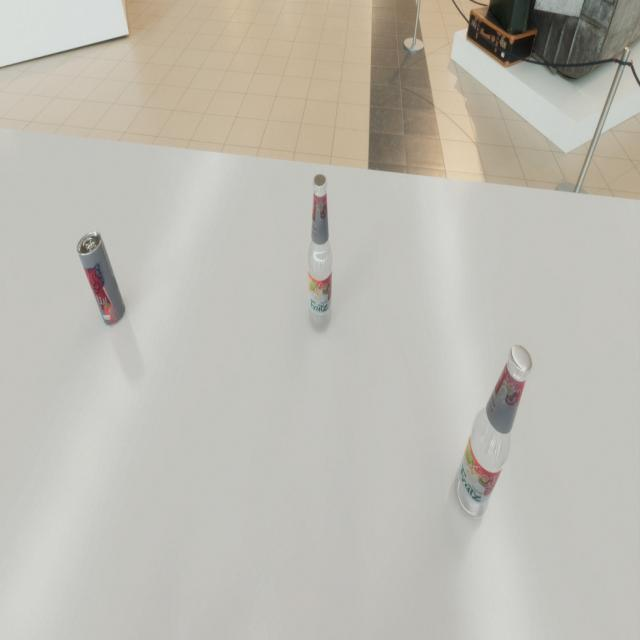Bottle: (454, 345, 532, 519), (307, 174, 333, 332)
Rita_zero_sugar: (77, 231, 125, 326)
